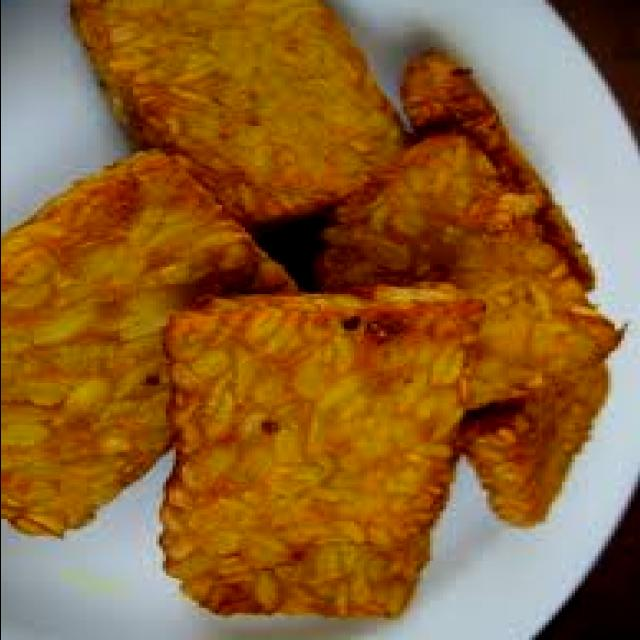tempe goreng: (0, 156, 305, 552), (156, 276, 486, 632), (73, 0, 441, 206)
